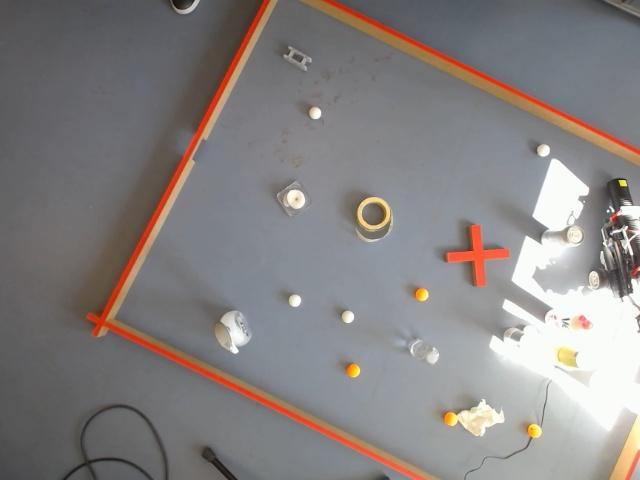orange: (413, 286, 431, 304), (345, 362, 361, 380), (526, 423, 542, 440), (442, 410, 457, 428)
robot: (589, 178, 640, 332)
robot-front: (616, 179, 628, 189)
white: (339, 308, 356, 326), (286, 293, 304, 310), (534, 142, 552, 159), (307, 106, 323, 122)
